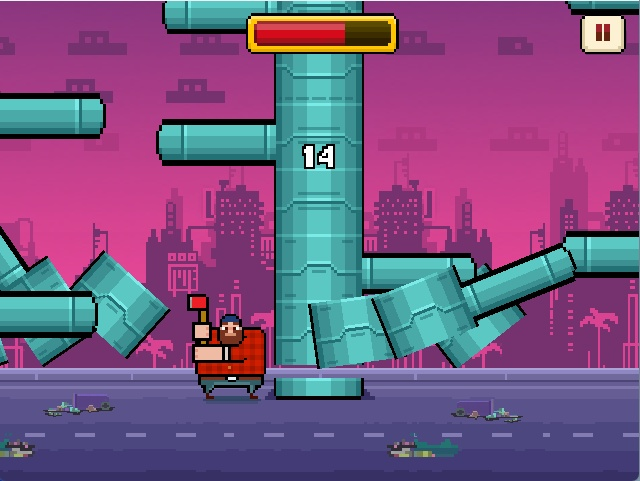left_obs: (151, 111, 282, 173)
timberman: (183, 290, 270, 403)
